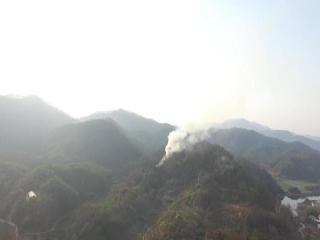smoke: (155, 123, 217, 168)
